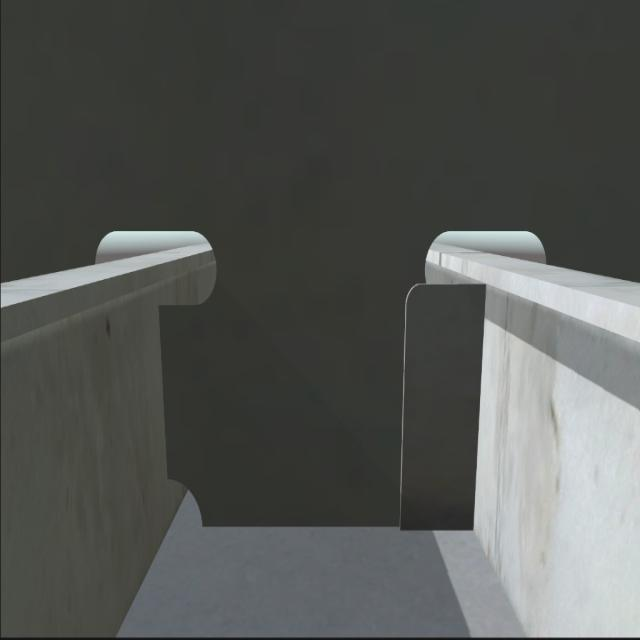fillet_hole: (165, 480, 203, 531)
fillet_yong_jeop_jang: (201, 518, 474, 534)
longi_yong_jeop_jang: (154, 302, 180, 479), (471, 278, 486, 535)
plate_CP05: (401, 287, 480, 529)
